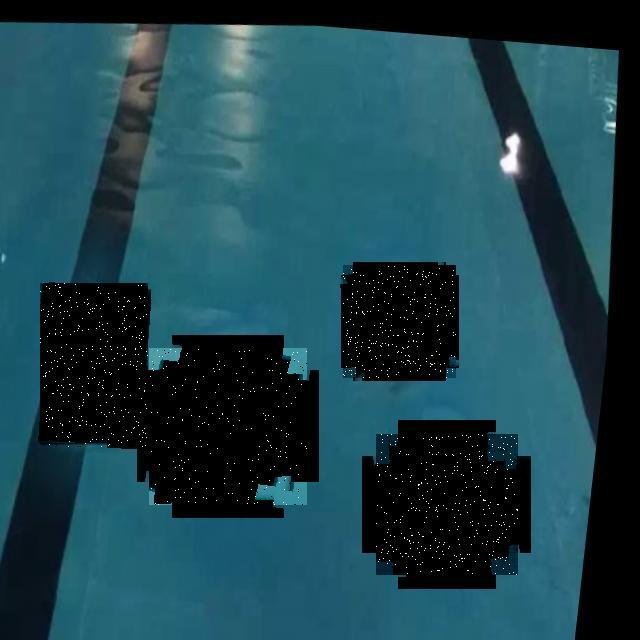swimming: (149, 348, 307, 505), (376, 434, 518, 575), (40, 284, 148, 448), (343, 265, 456, 378)
